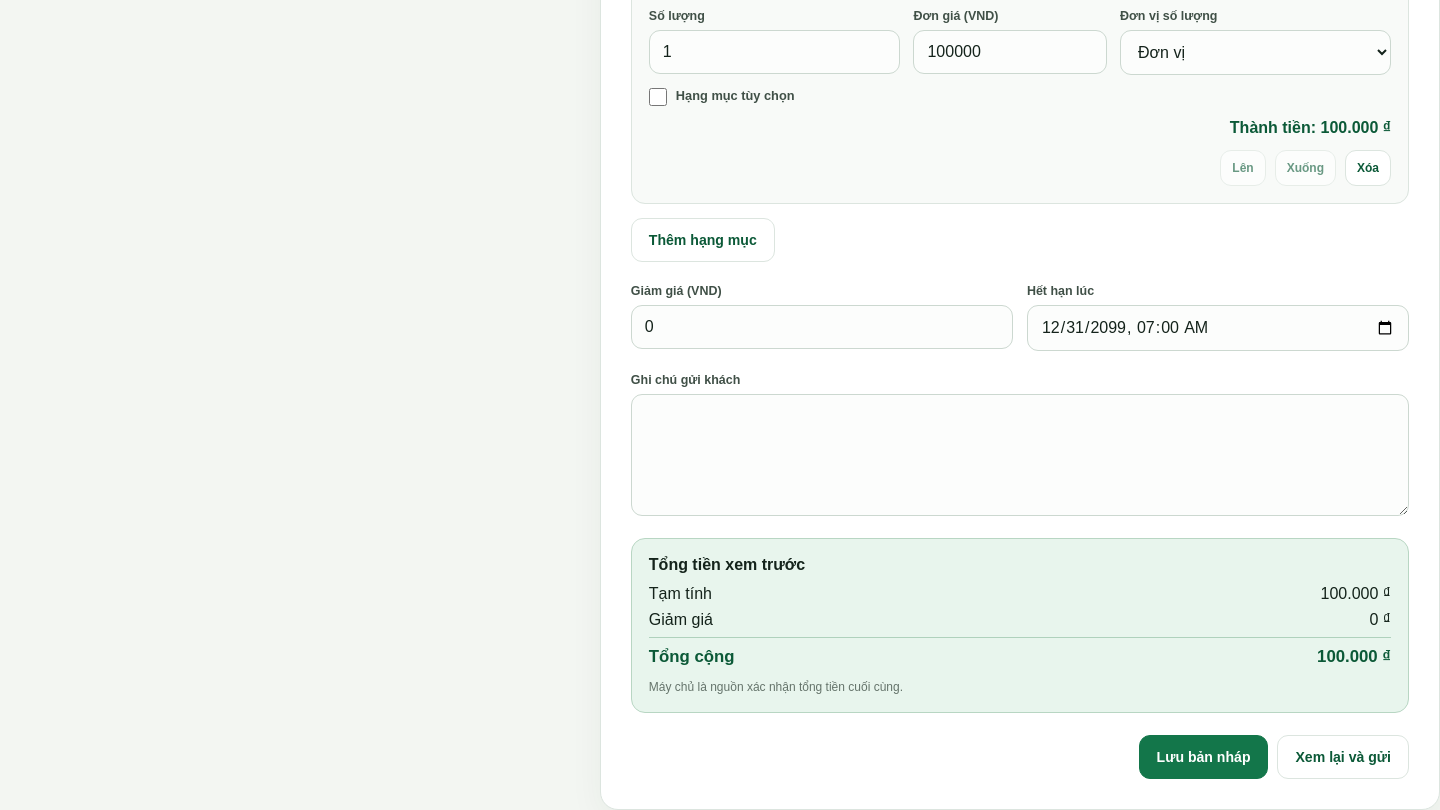
Test case: QuotePanel › keeps one idempotency key for retry and prevents concurrent double submit
(page scrolled)
Click the button "Xem lại và gửi": (1343, 757) [1278,735,1409,779]
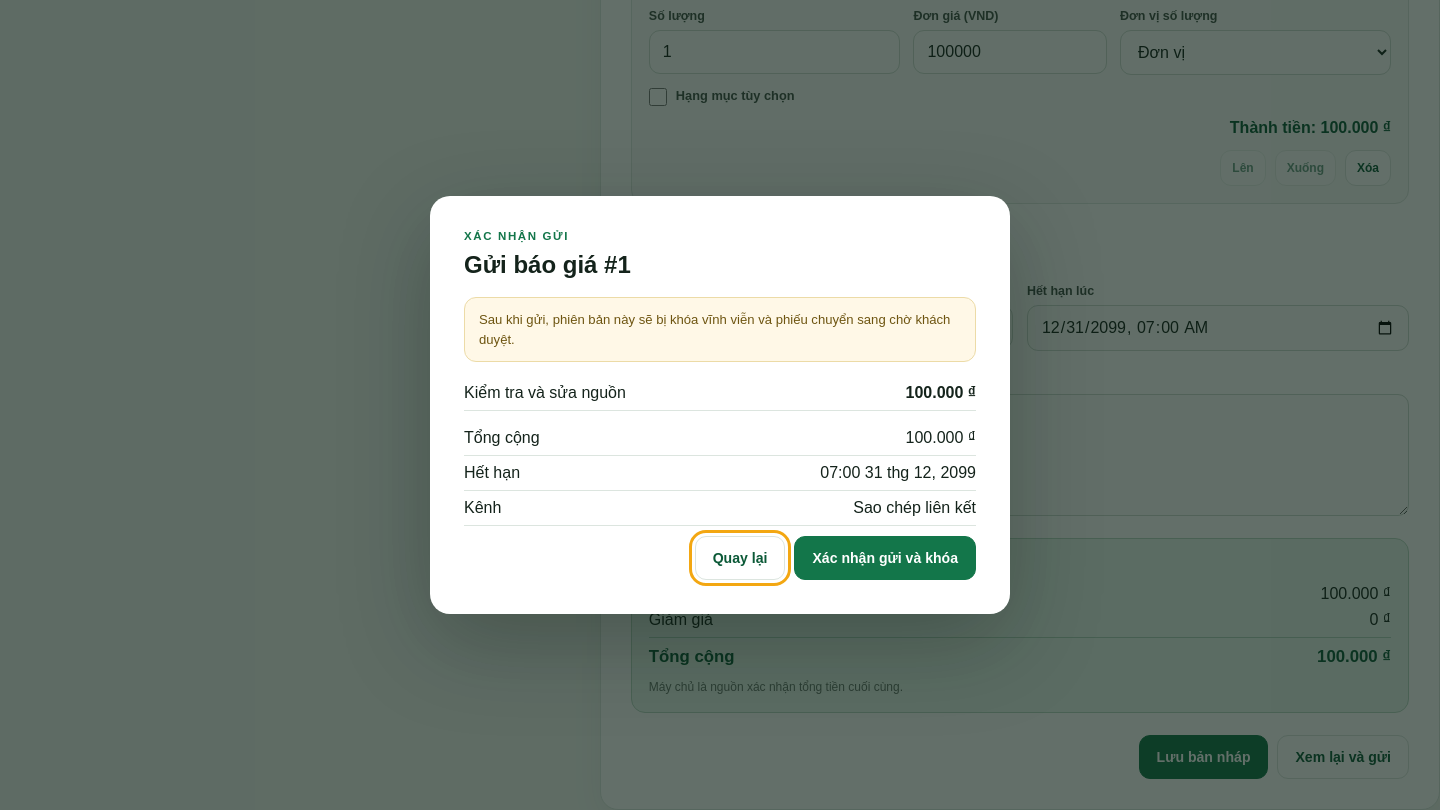
Click the button "Xác nhận gửi và khóa": (885, 558) [794,536,976,580]
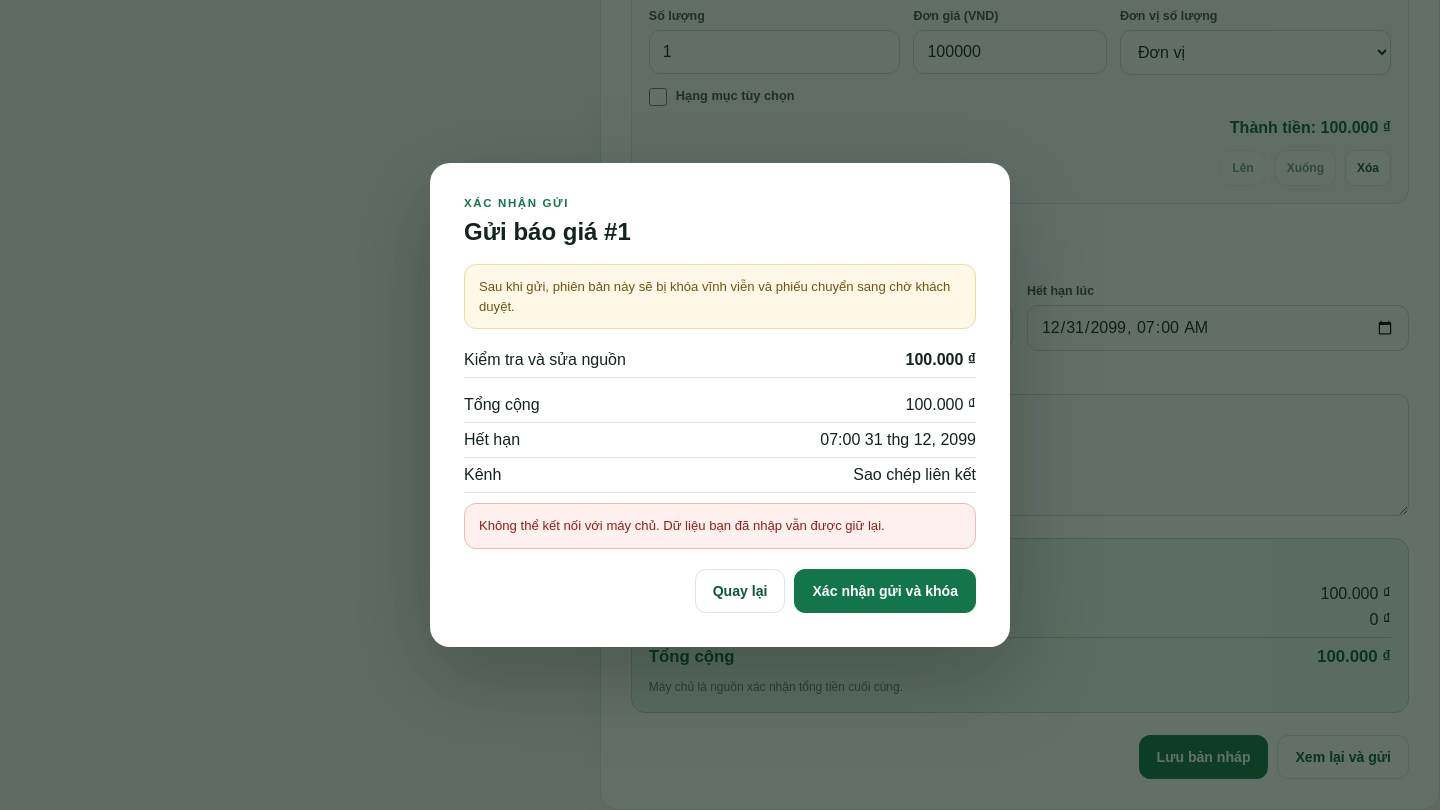
expect the message "Không thể kết nối với máy chủ. Dữ liệu bạn đã nhập vẫn được giữ lại." is shown: met, box [464,503,976,549]
Click the button "Xác nhận gửi và khóa": (885, 591) [794,569,976,613]
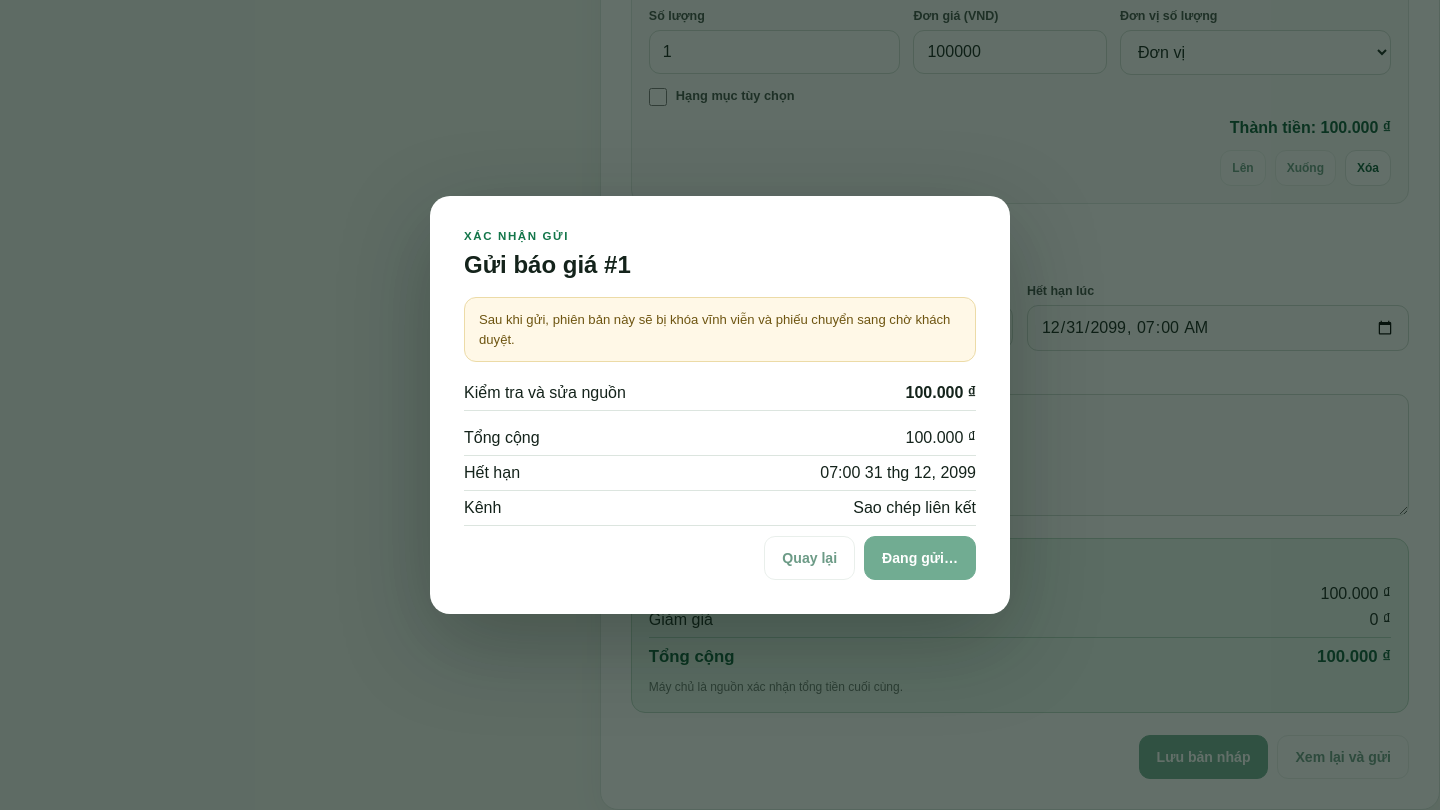
Click the button named "Xác nhận gửi và khóa": (920, 558) [864,536,976,580]
(page scrolled)
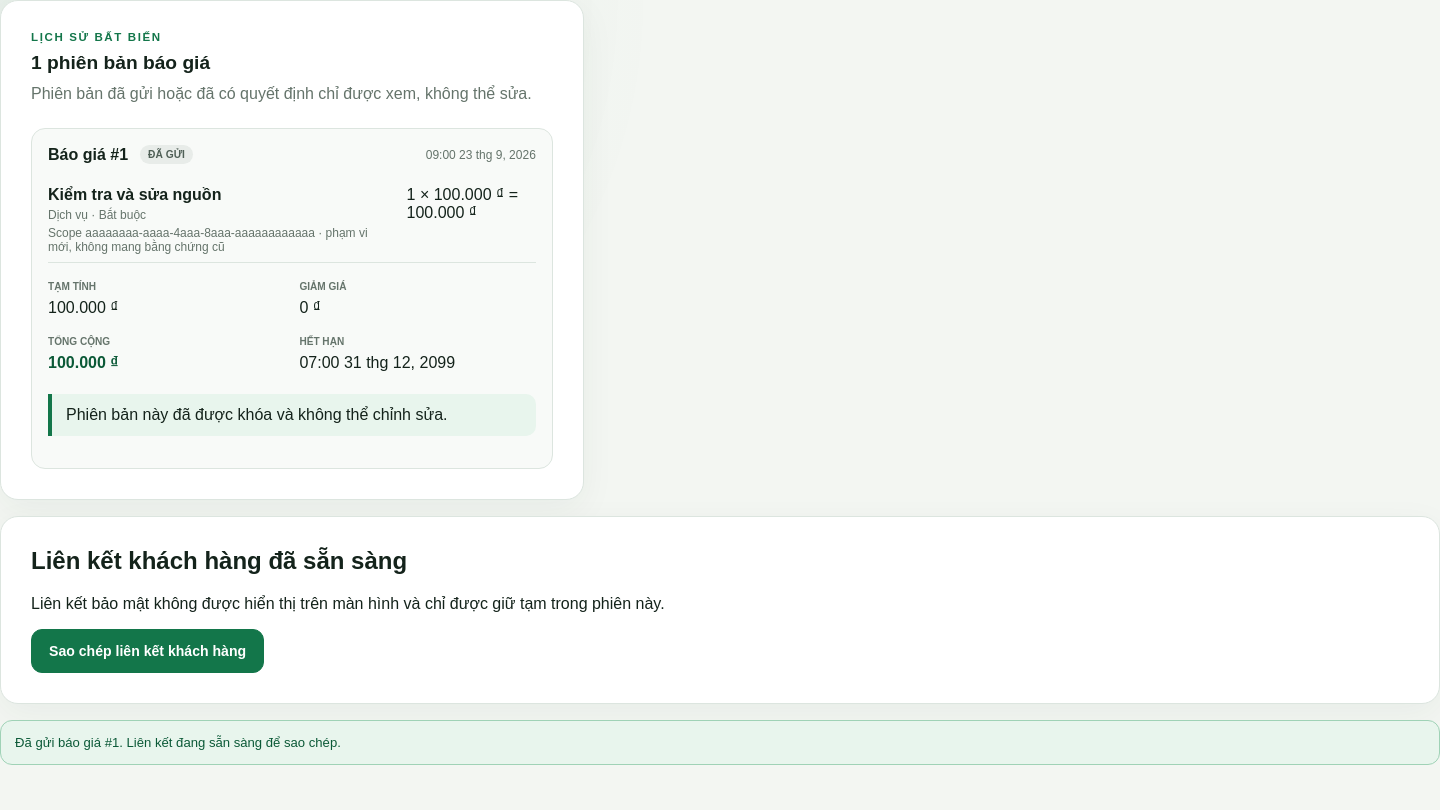
expect the dialog is gone: met
